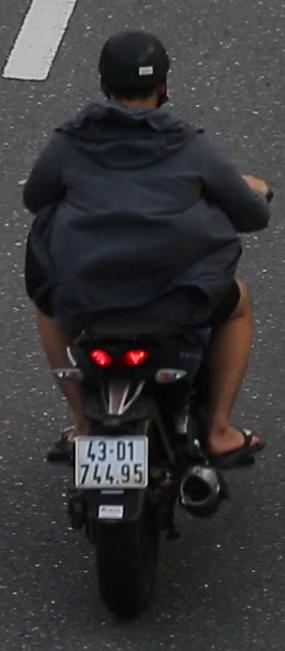LP: (68, 425, 152, 492)
helmet: (90, 24, 183, 126)
